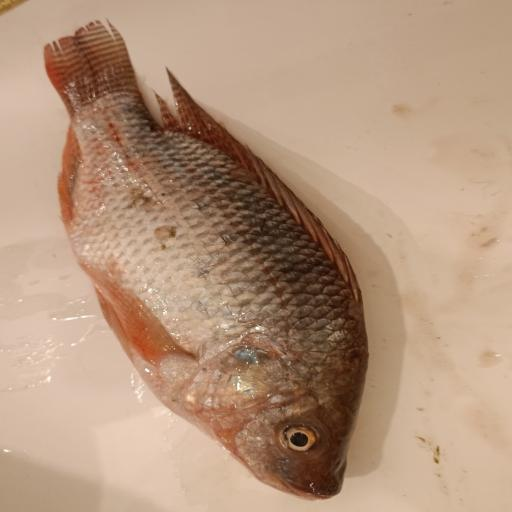Tilapia: (44, 18, 368, 502)
